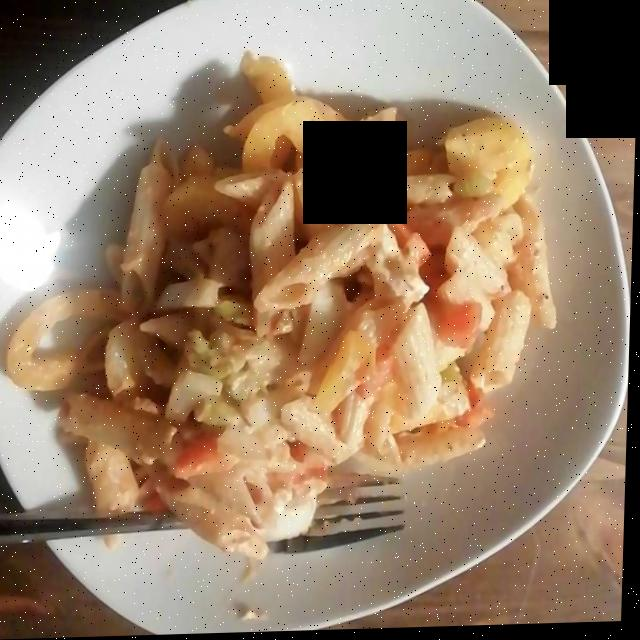pasta-penne: (11, 66, 551, 553)
